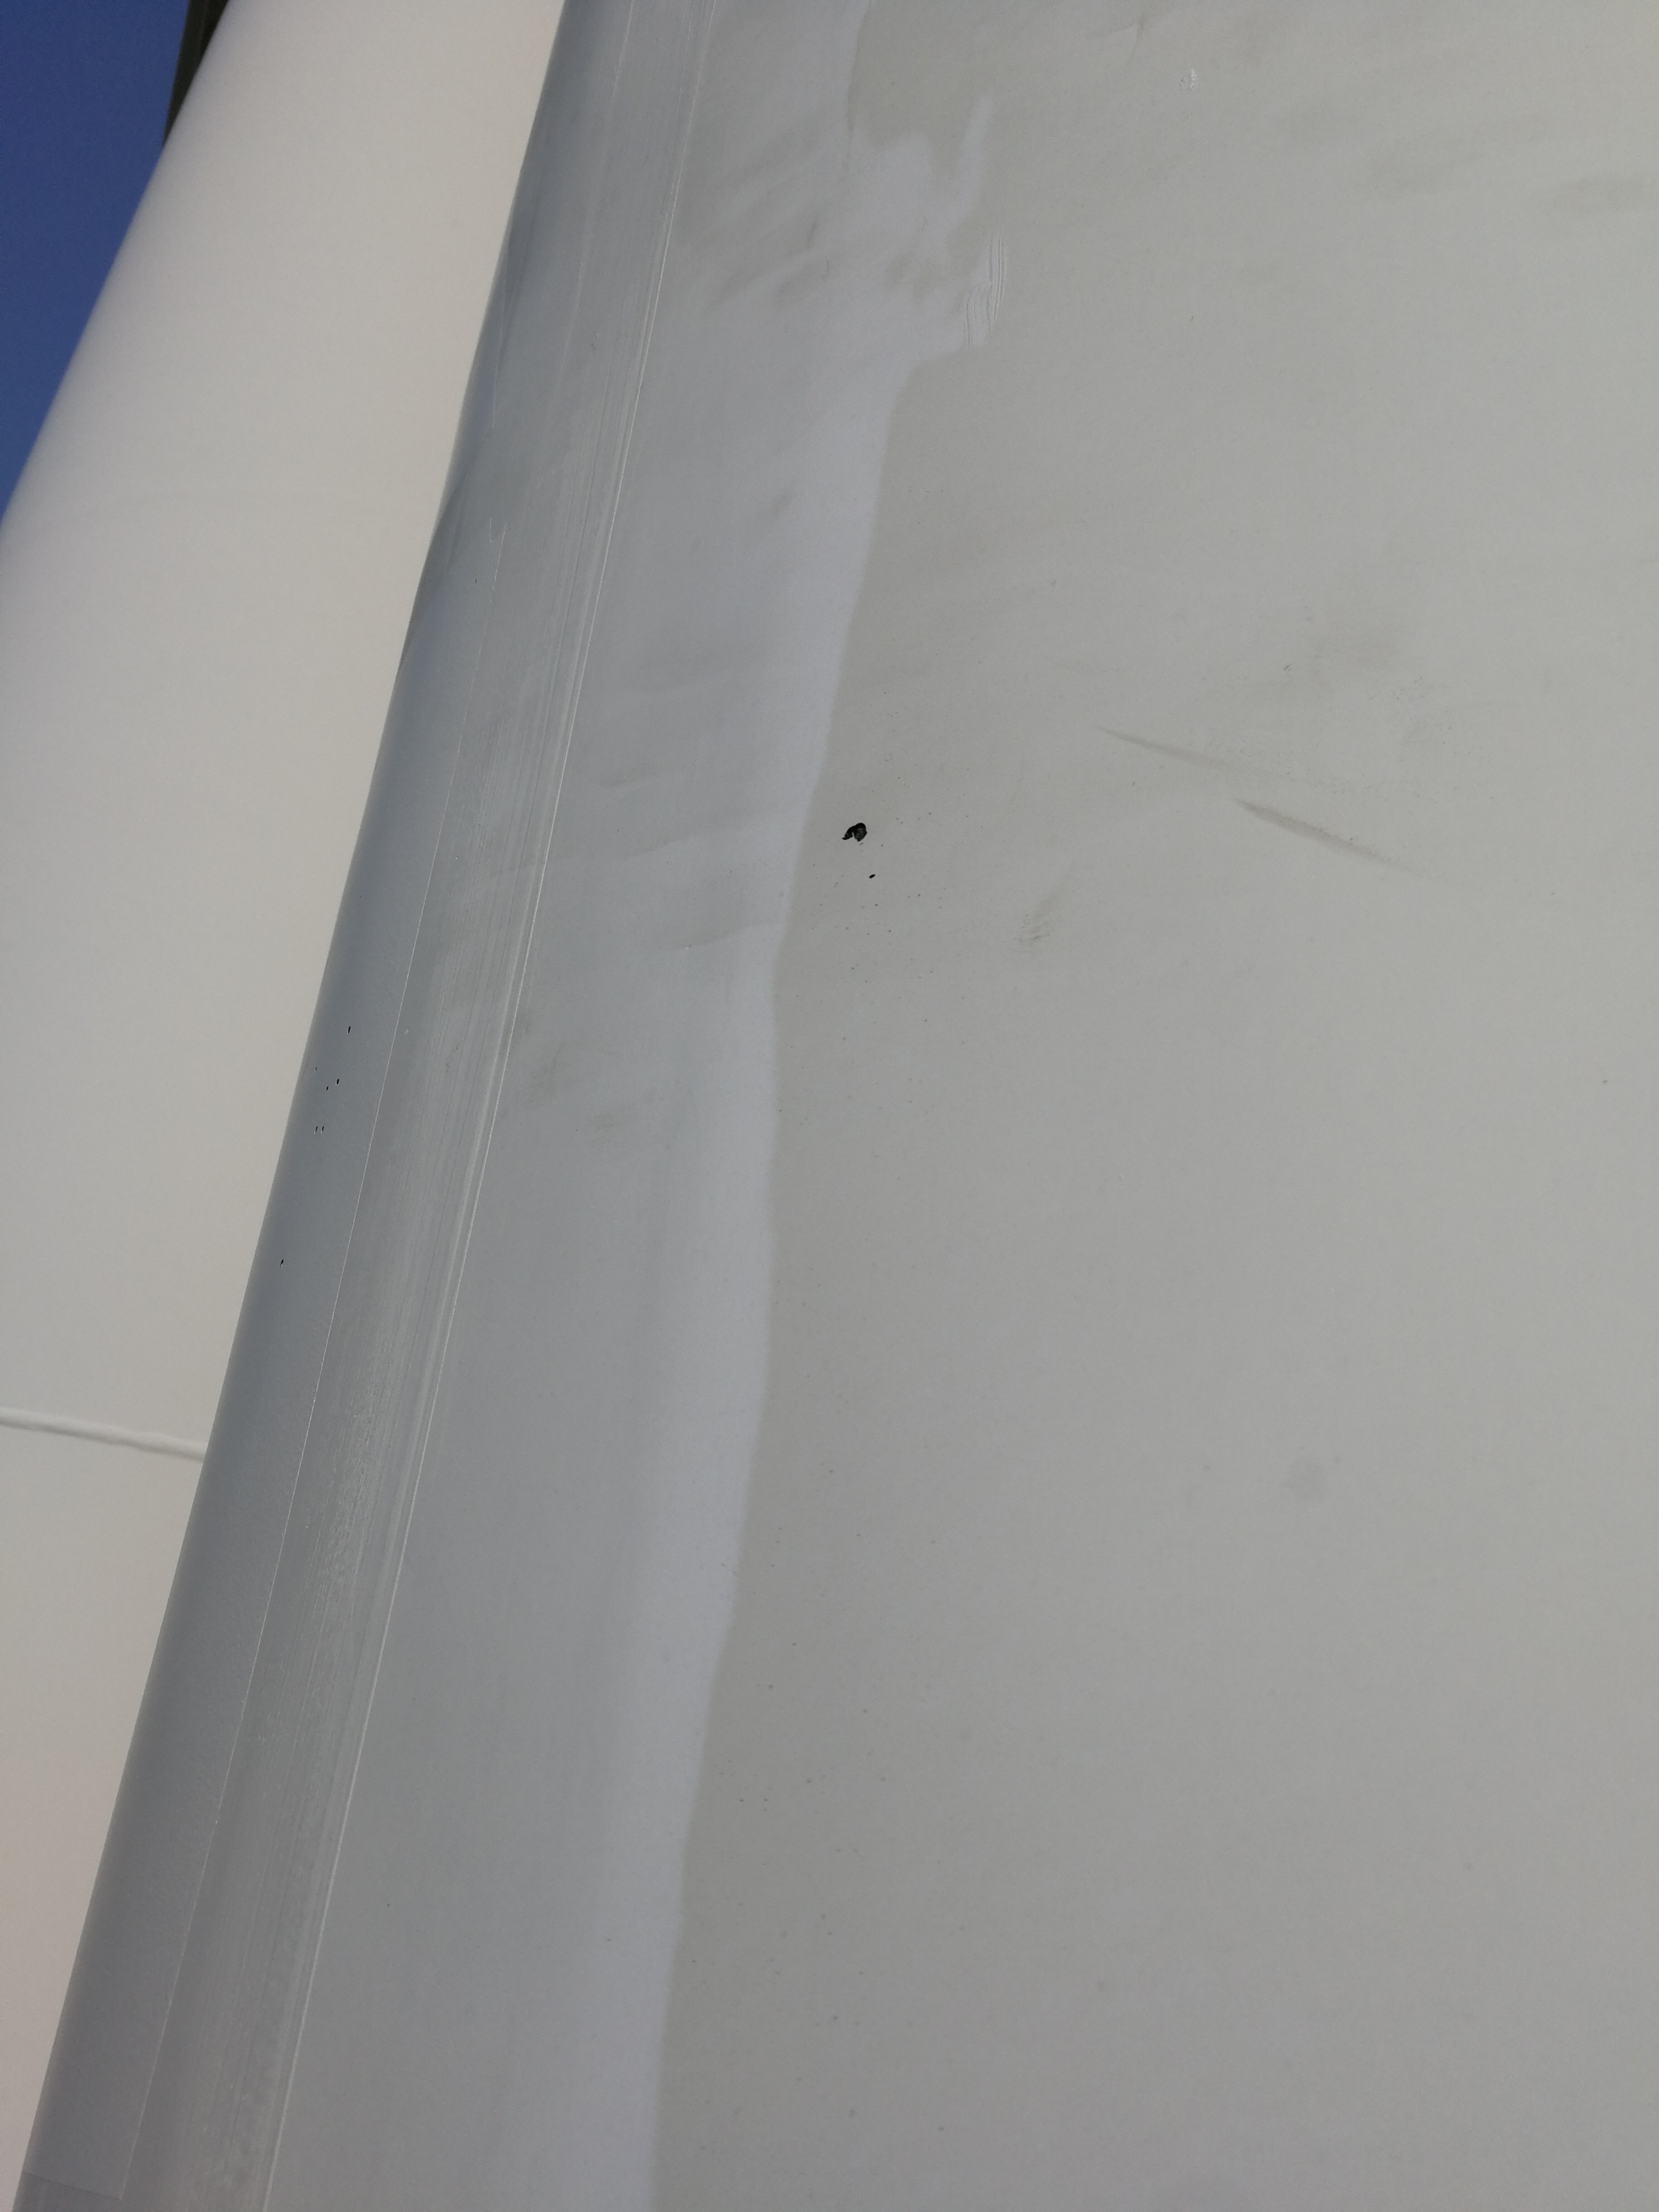SD: (836, 810, 870, 848)
